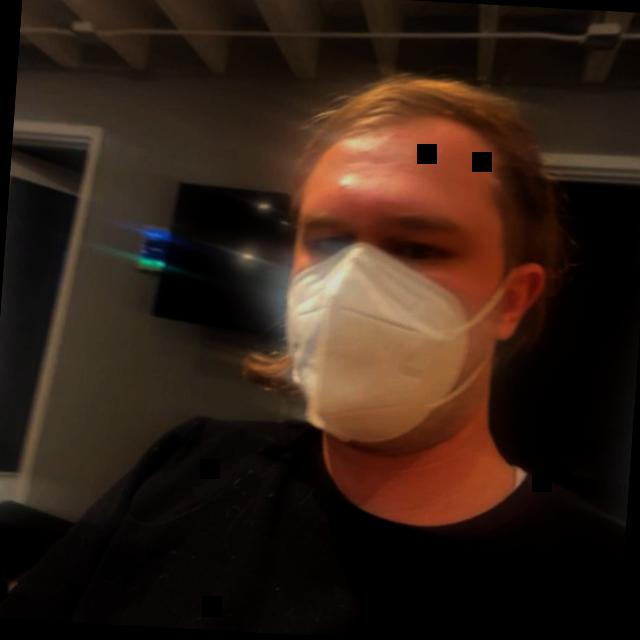Mask: (213, 31, 579, 531)
